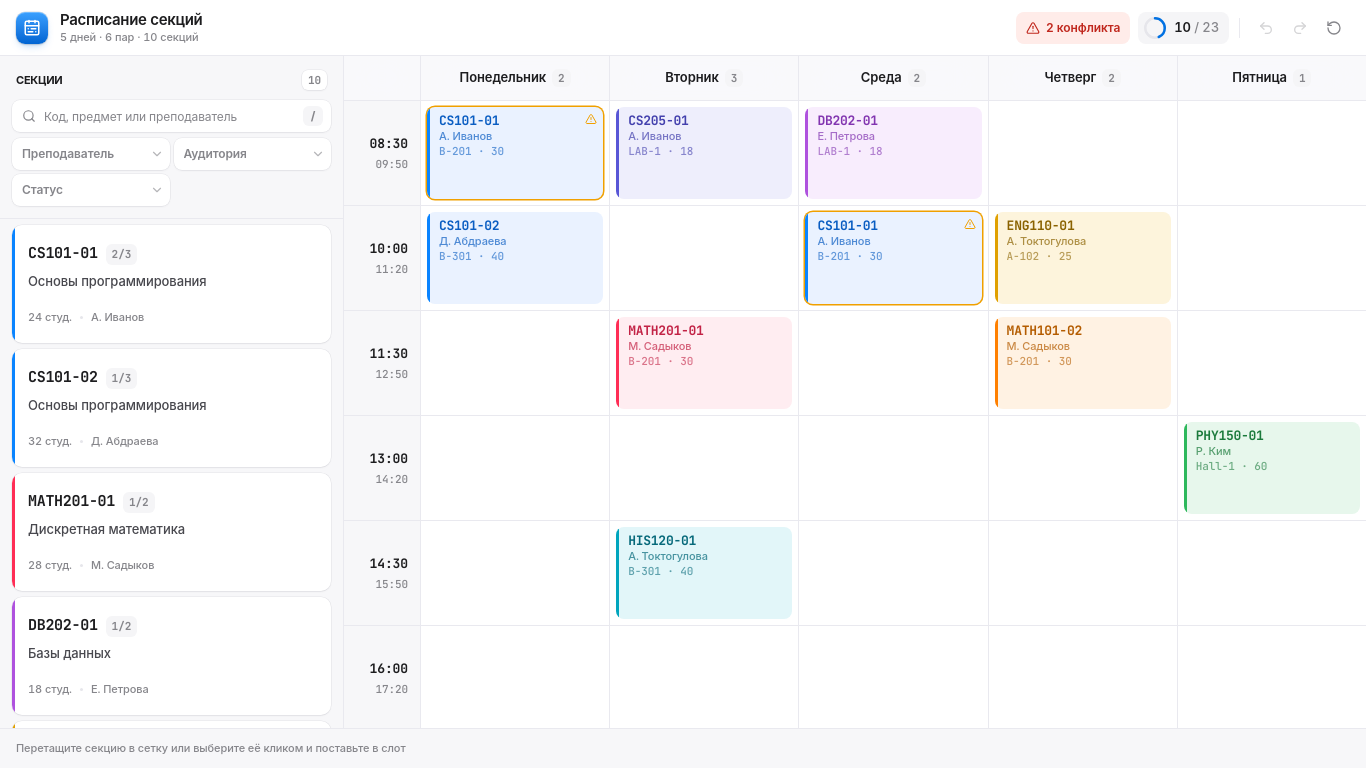
Scenario: рабочий экран › крестик в поиске возвращает полный список
In the search field named "Поиск секции": (172, 116) [12,100,331,132], type "базы данных"
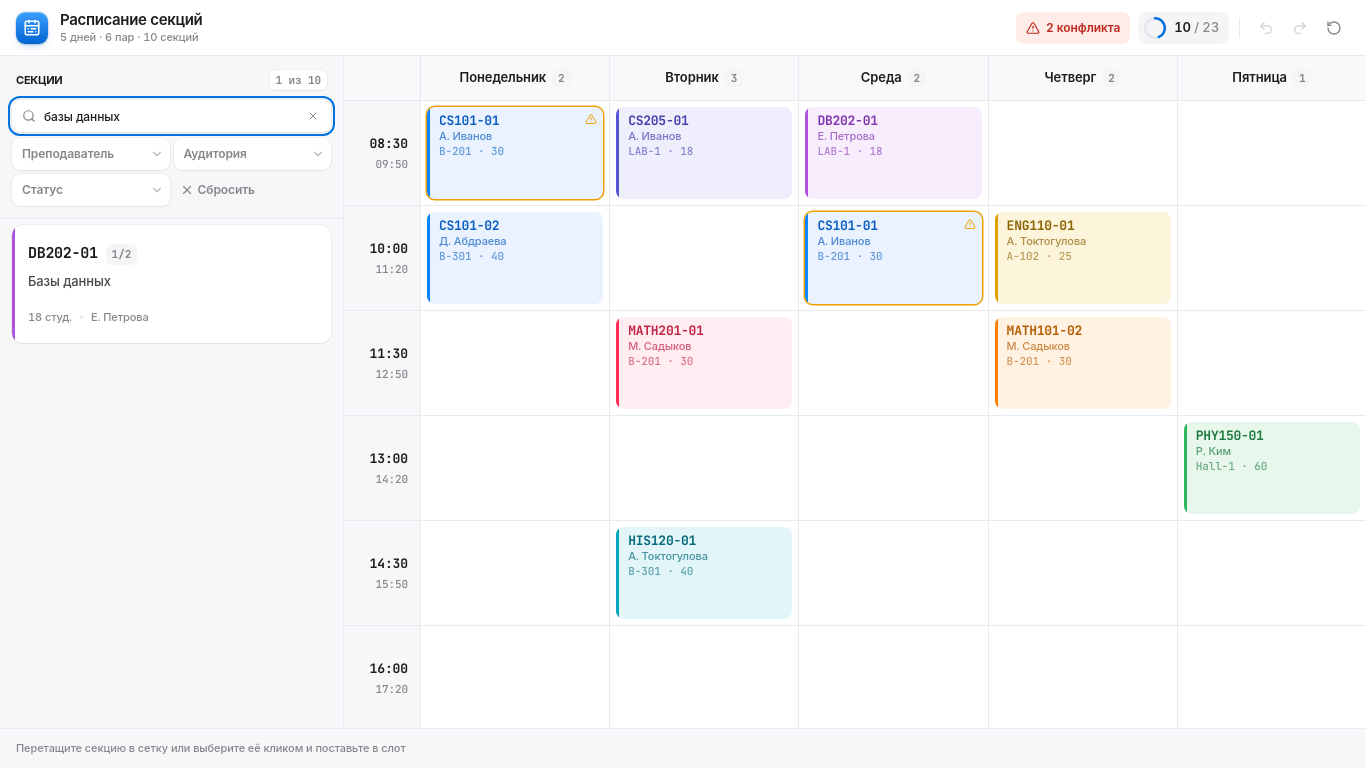
Click the button named "Очистить поиск": (313, 116) [301,104,325,128]
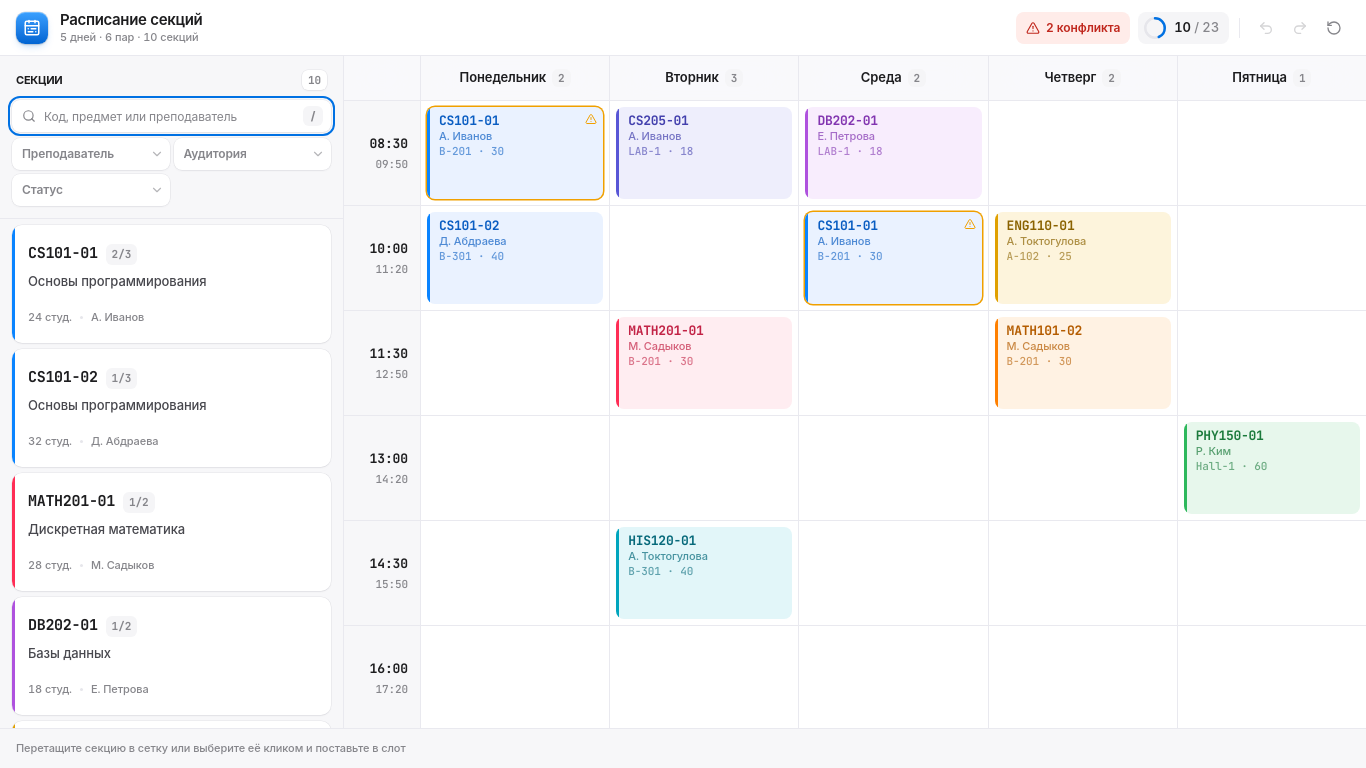
Expected: the search field named "Поиск секции" is empty, [12,100,331,132]
